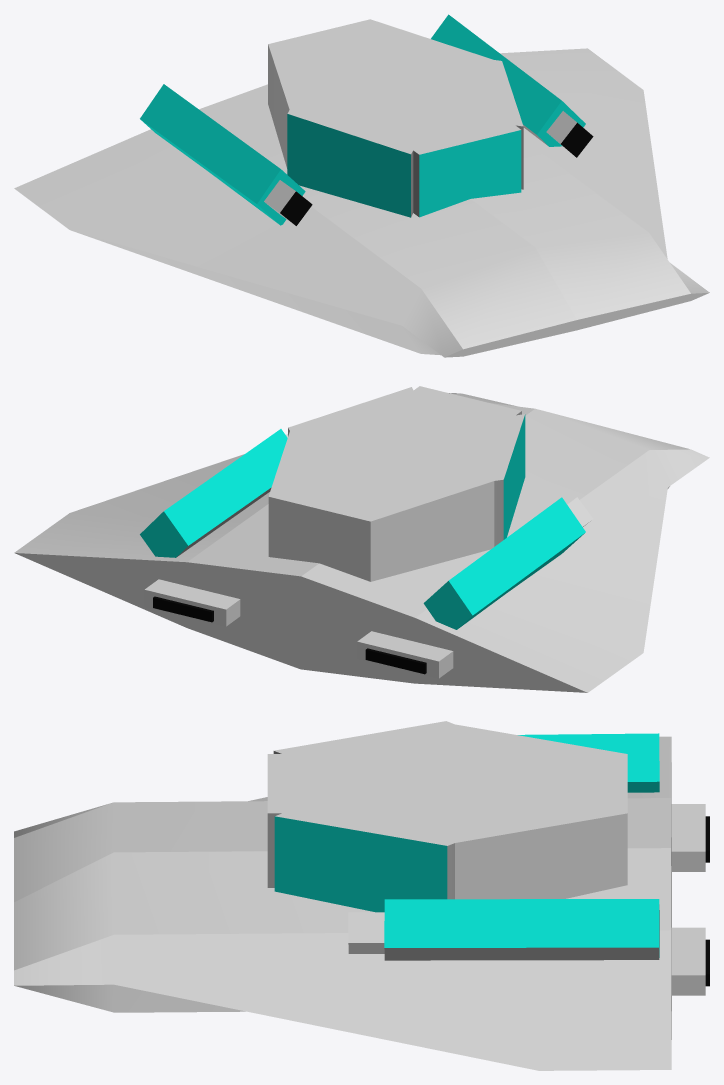
Rendered from FBX Finished Ally Lazarous Ship.fbx.
The picture shows the model from 3 angles, top to bottom: view 1: azimuth 30°, elevation 25°; view 2: azimuth 150°, elevation 25°; view 3: azimuth 270°, elevation 25°; orthographic projection. The views are drawn at different scales.
Visible parts, largest first — view 1: pCylinder1, pasted__pCylinder1, pasted__pasted__pCylinder3; view 2: pCylinder1, pasted__pCylinder1, pasted__pasted__pCylinder3, pasted__pasted__pCube2 (×2), pasted__pCube2, pasted__pasted__pasted__pCube2; view 3: pCylinder1, pasted__pCylinder1, pasted__pasted__pCylinder3, pasted__pCube2, pasted__pasted__pCube2.
Part boxes in pixels (x1,y1,x2,y2): pCylinder1: [14, 48, 709, 357]; pasted__pCylinder1: [268, 19, 523, 217]; pasted__pasted__pCylinder3: [140, 14, 593, 225]; pCylinder1: [14, 393, 709, 692]; pasted__pCylinder1: [268, 386, 525, 581]; pasted__pasted__pCylinder3: [140, 429, 593, 629]; pasted__pasted__pCube2 (×2): [153, 596, 453, 678]; pasted__pCube2: [144, 579, 240, 626]; pasted__pasted__pasted__pCube2: [365, 648, 426, 674]; pCylinder1: [14, 736, 671, 1070]; pasted__pCylinder1: [267, 721, 627, 912]; pasted__pasted__pCylinder3: [348, 733, 659, 960]; pasted__pCube2: [671, 927, 705, 995]; pasted__pasted__pCube2: [671, 804, 705, 871].
Bounding box in the file's own units: 12.96 × 3.24 × 11.44.
